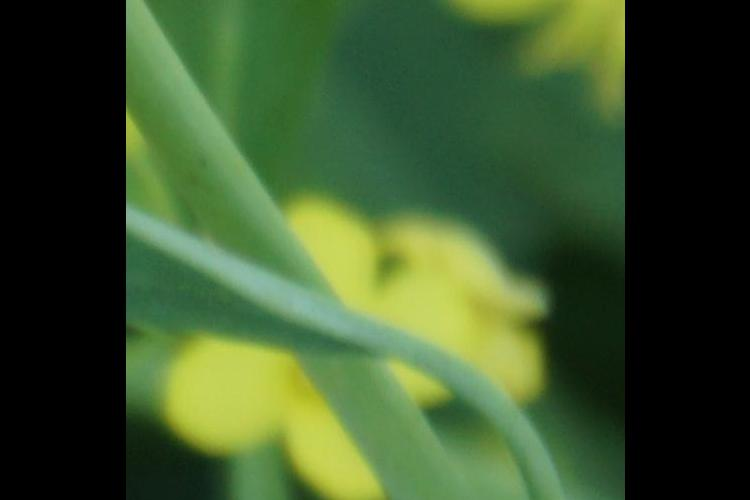yellow: (166, 214, 551, 500)
